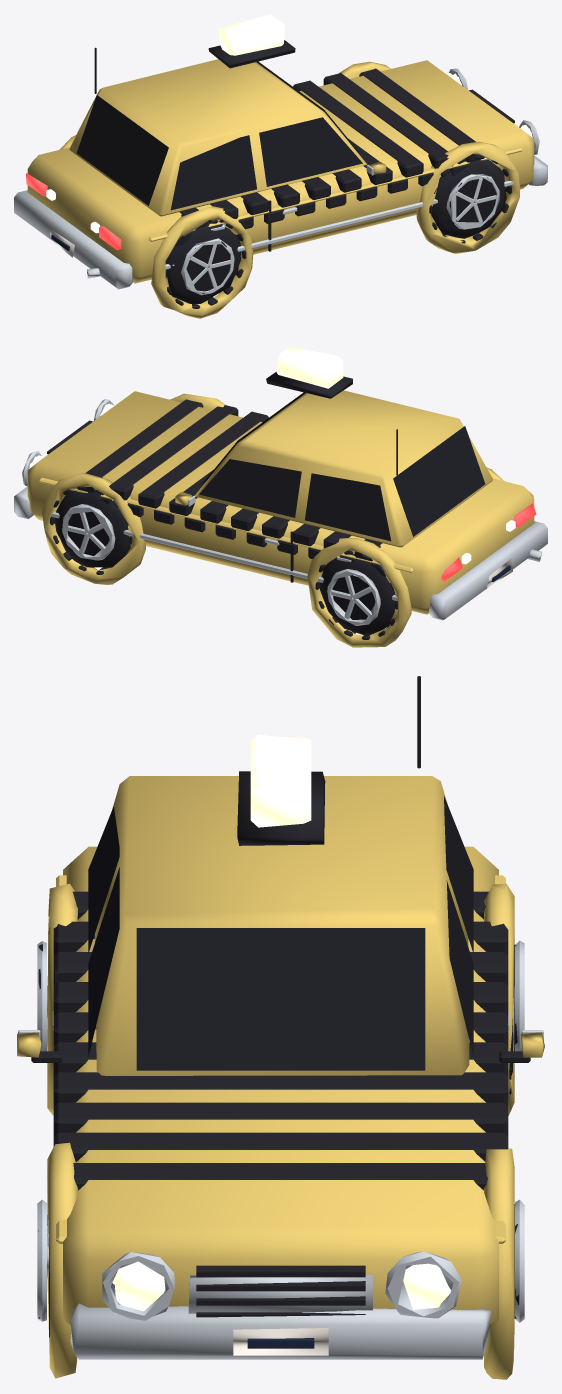
File: taxi.glb
3 renders of one model, top to bottom at view 1: azimuth 30°, elevation 25°; view 2: azimuth 150°, elevation 25°; view 3: azimuth 270°, elevation 25°, orthographic. The views are drawn at different scales.
Visible parts, largest first — view 1: taxi; view 2: taxi; view 3: taxi.
Part boxes in pixels (x1,y1,x2,y2): taxi: [14, 14, 547, 318]; taxi: [14, 347, 547, 647]; taxi: [17, 676, 544, 1379].
Bounding box in the file's own units: 4.64 × 2.25 × 2.37.
Materials: 1 (1 with a texture image).
